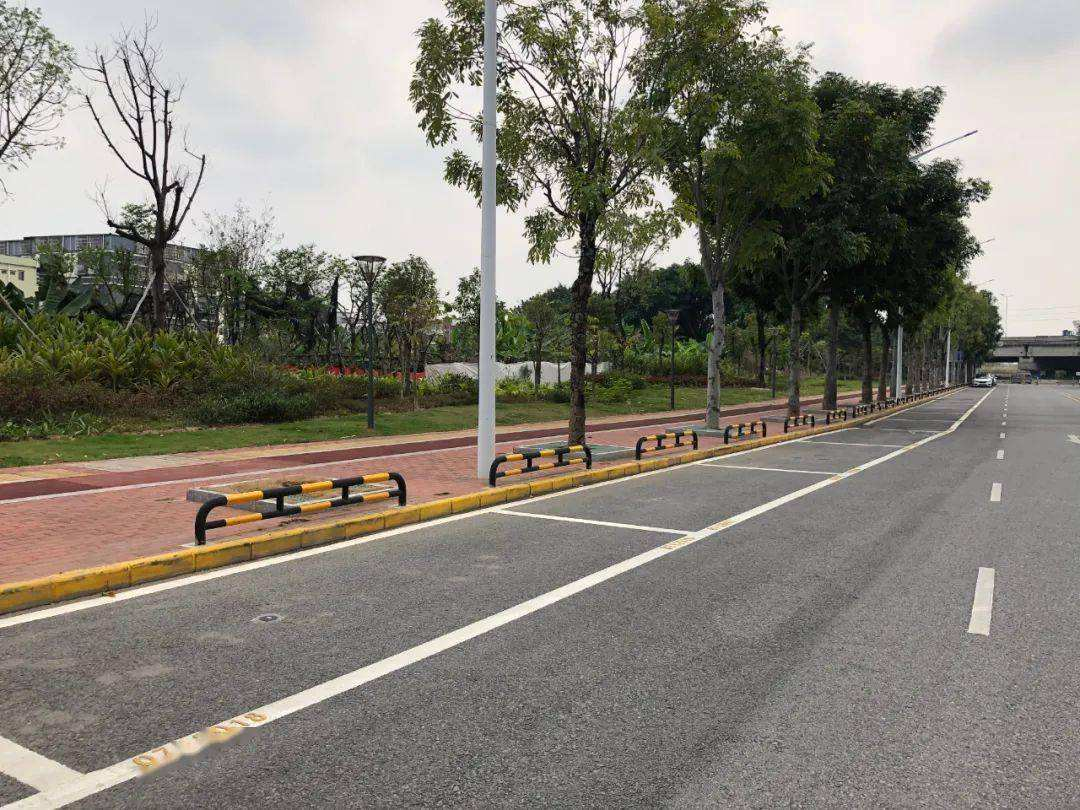slot_nocar: (5, 495, 712, 801), (469, 445, 855, 557), (681, 425, 916, 481), (795, 412, 948, 455), (877, 402, 968, 421)
